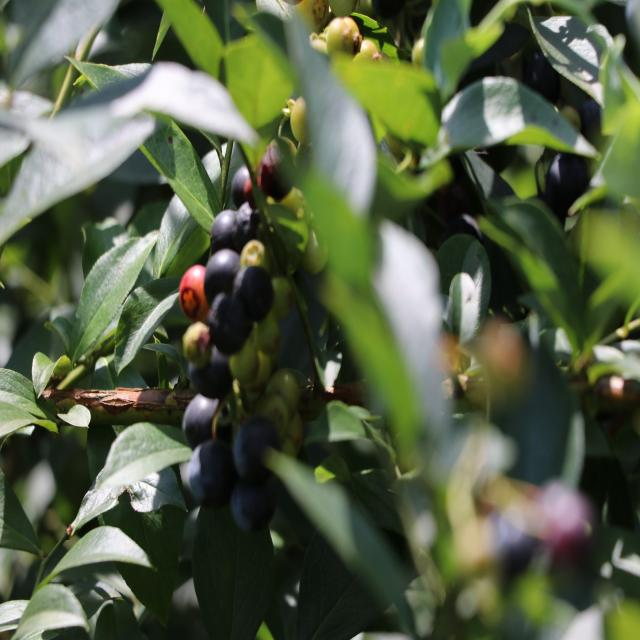blueberry: (188, 440, 236, 506), (235, 414, 280, 478), (228, 476, 278, 531), (182, 391, 232, 442), (208, 293, 248, 354), (188, 346, 234, 394), (204, 250, 242, 303), (236, 264, 273, 318), (231, 157, 264, 207), (209, 209, 245, 253)
blueberry-halfripe: (260, 140, 296, 202), (176, 263, 209, 317)
blueberry-unripe: (322, 17, 363, 65), (288, 95, 317, 147)
